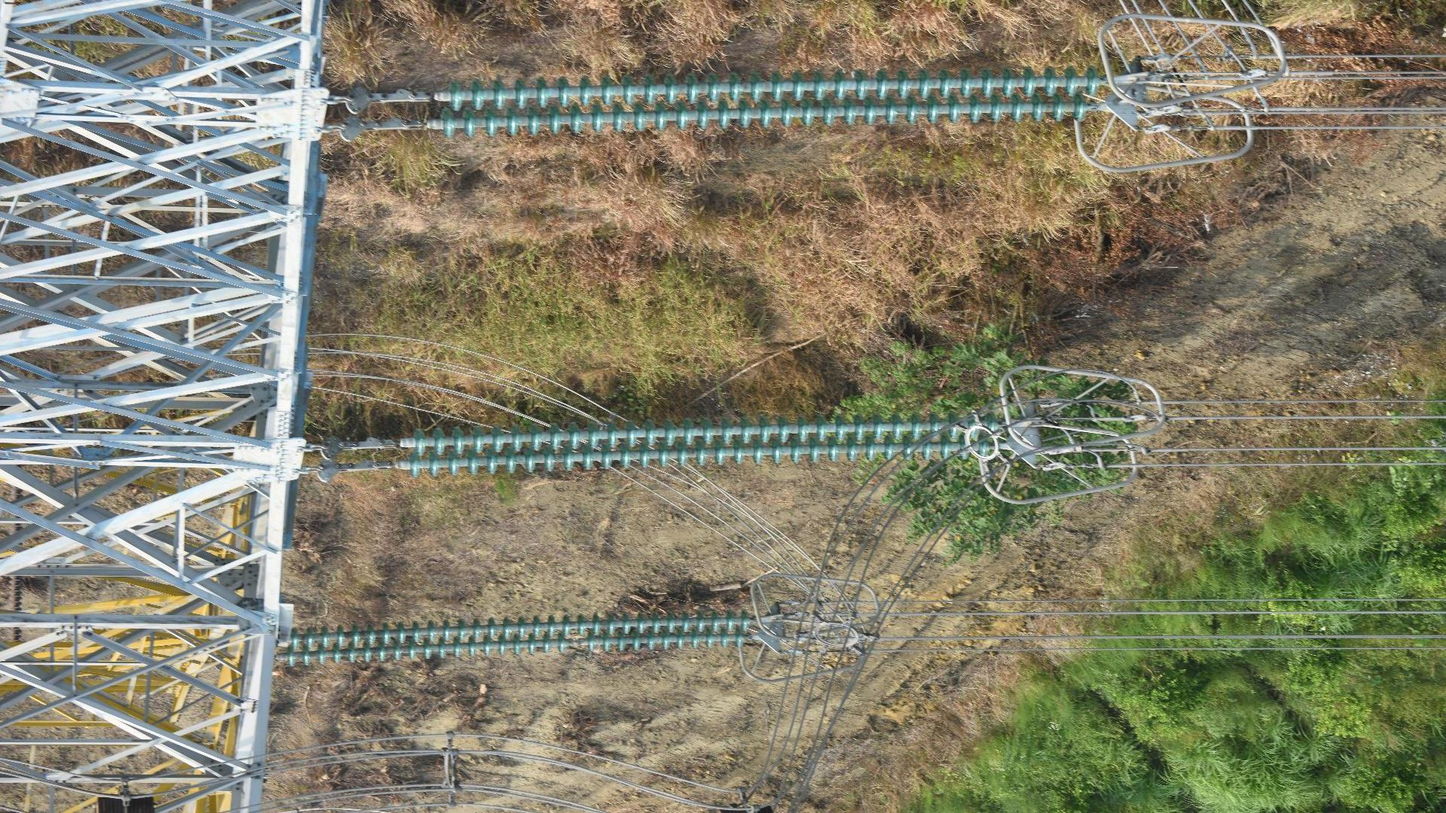insulator: (437, 62, 1104, 144), (404, 408, 1002, 482), (284, 606, 754, 671), (4, 570, 27, 644)
insulator_stringdrop: (554, 629, 599, 658)
